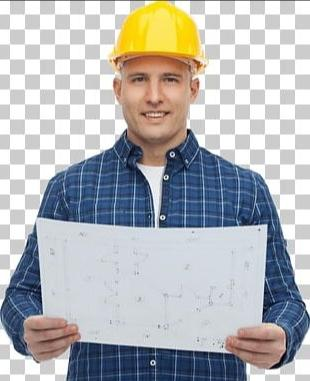helmet: (108, 2, 208, 69)
no_wear: (63, 159, 258, 381)
